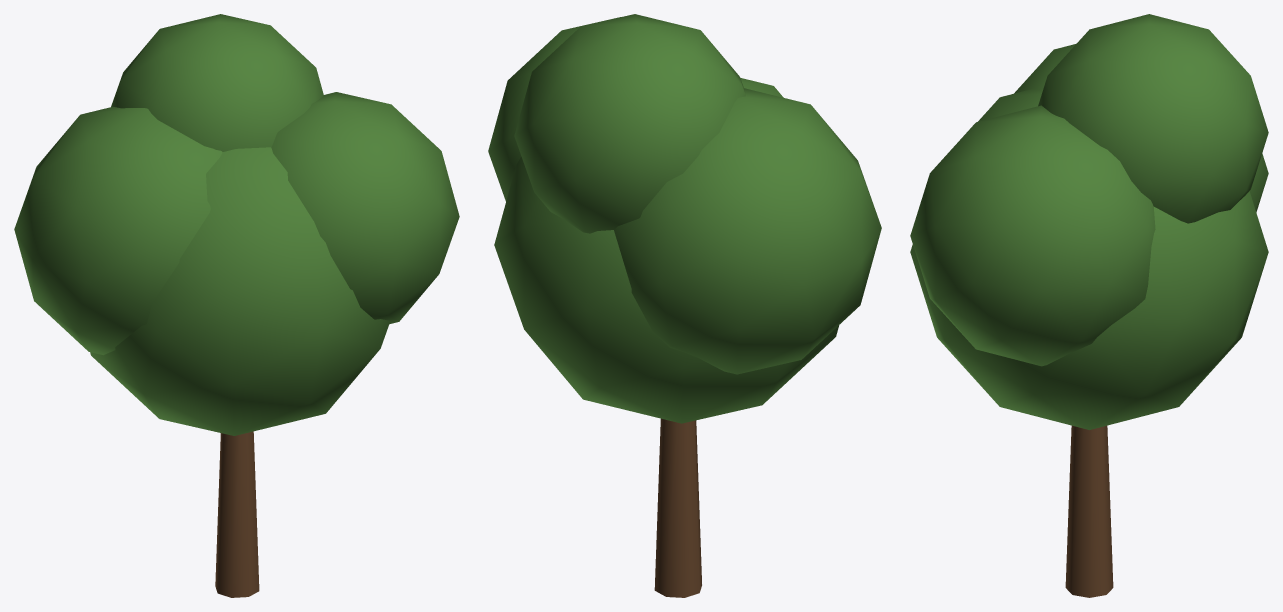
The model's file is drzewo.glb.
The picture shows the model from 3 angles, left to right: view 1: azimuth 30°, elevation 25°; view 2: azimuth 150°, elevation 25°; view 3: azimuth 270°, elevation 25°; orthographic projection. The views are drawn at different scales.
Visible parts, largest first — view 1: Drzewo; view 2: Drzewo; view 3: Drzewo.
Boxes of the visible parts, x1,y1,x2,y2 form: Drzewo: [14, 14, 459, 597]; Drzewo: [488, 14, 881, 597]; Drzewo: [910, 14, 1268, 597].
Size of the model in its own units: 6.75 by 9.45 by 5.4.
